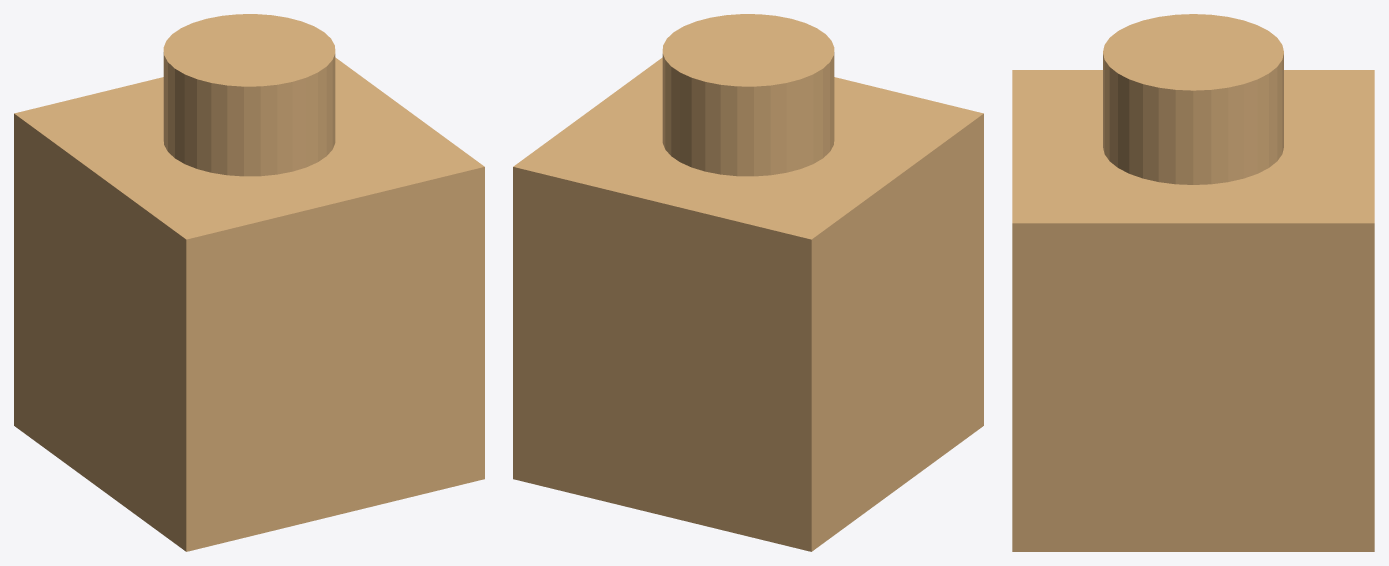
The model's file is Miner.glb.
The picture shows the model from 3 angles, left to right: view 1: azimuth 30°, elevation 25°; view 2: azimuth 150°, elevation 25°; view 3: azimuth 270°, elevation 25°; orthographic projection. The views are drawn at different scales.
Parts seen in each view (by area): view 1: Cube, Cylinder; view 2: Cube, Cylinder; view 3: Cube, Cylinder.
Part boxes in pixels (x1,y1,x2,y2): Cube: [14, 57, 484, 551]; Cylinder: [163, 14, 335, 176]; Cube: [513, 57, 983, 551]; Cylinder: [662, 14, 834, 176]; Cube: [1012, 70, 1374, 551]; Cylinder: [1103, 14, 1283, 184].
Size of the model in its own units: 4 by 5.15 by 4.
